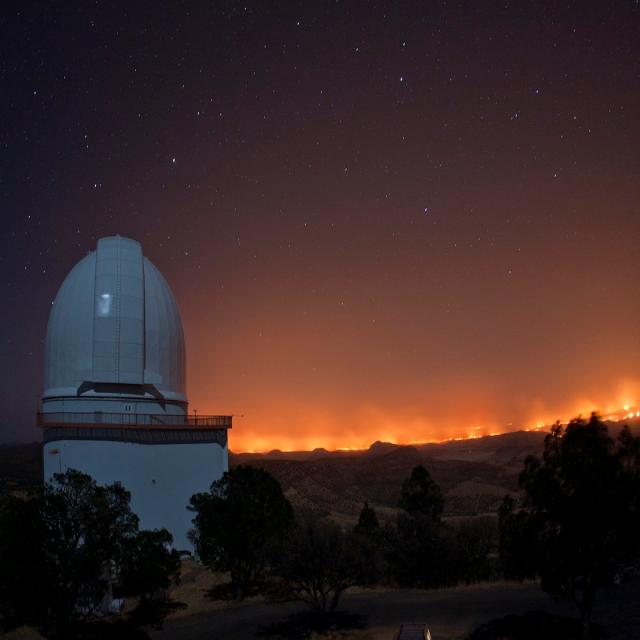Fire: (222, 399, 638, 457)
